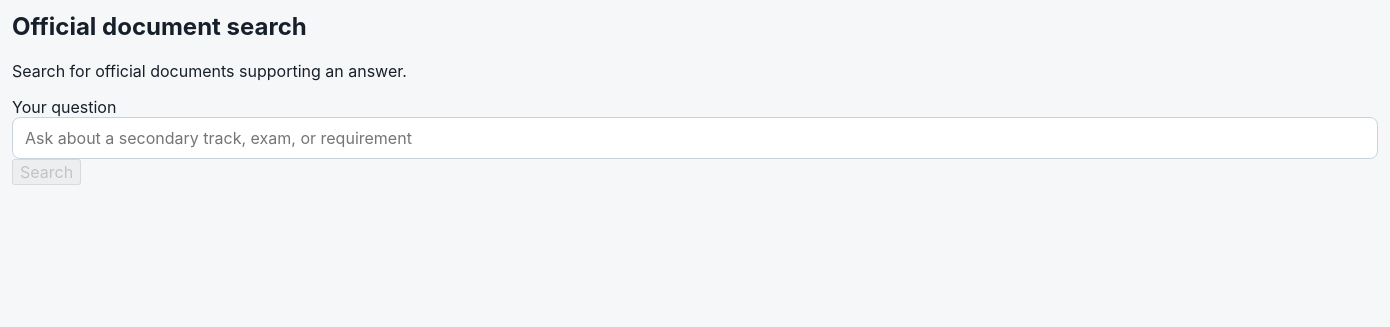
Scenario: displays official documents supporting the answer when the query matches indexed documents
Type "What are professional courses?" into the field labelled "Your question" at (695, 138), box left=12, top=117, right=1378, bottom=159
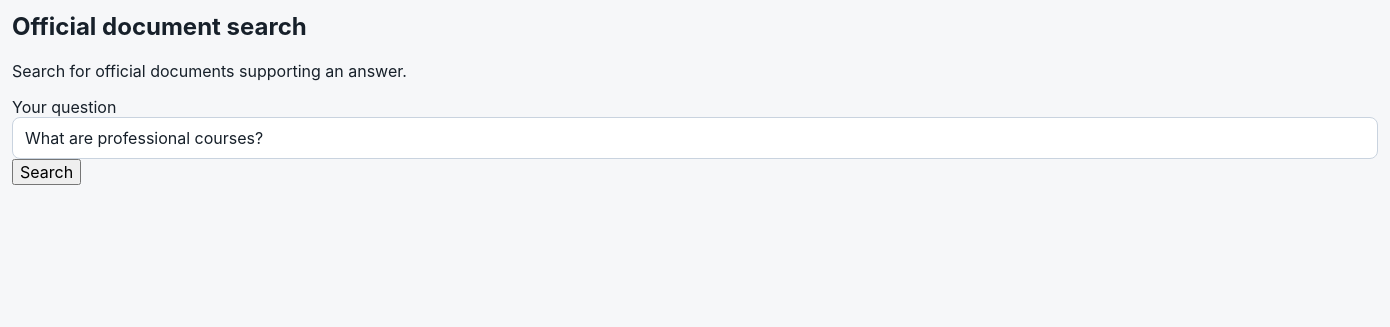
Click the button "Search" at (47, 172), box left=12, top=159, right=81, bottom=185
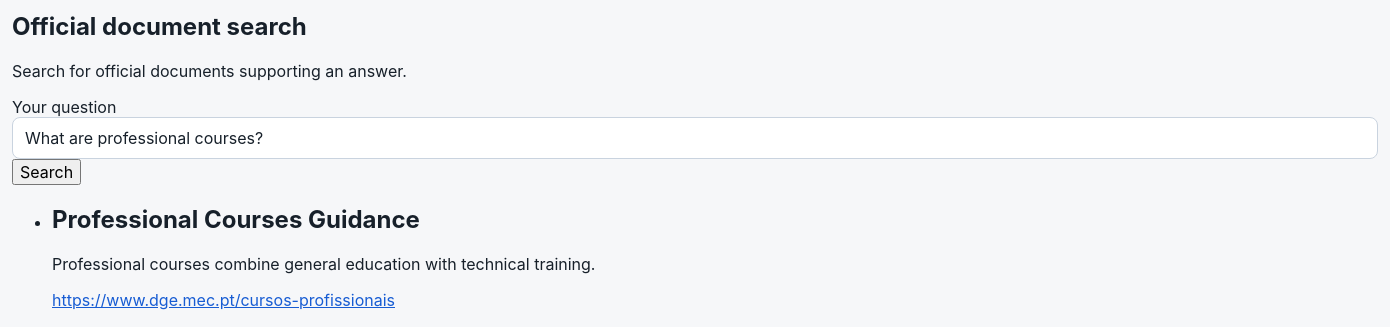
Check: the heading "Professional Courses Guidance" is shown, box left=52, top=205, right=420, bottom=234
Check: the text "Professional courses combine general education with technical training." is shown, box left=52, top=254, right=596, bottom=274
